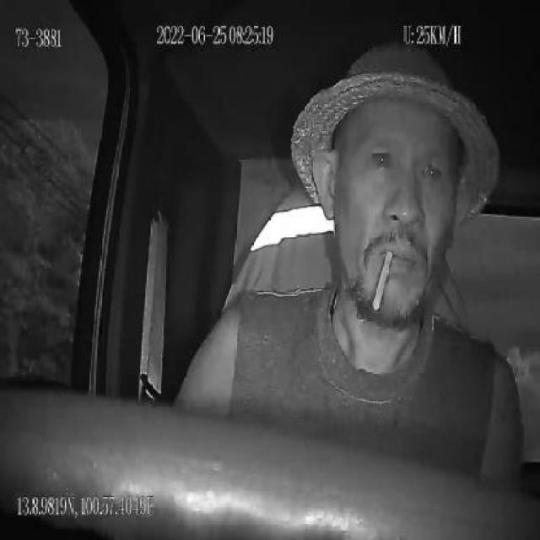smoking: (372, 244, 395, 314)
